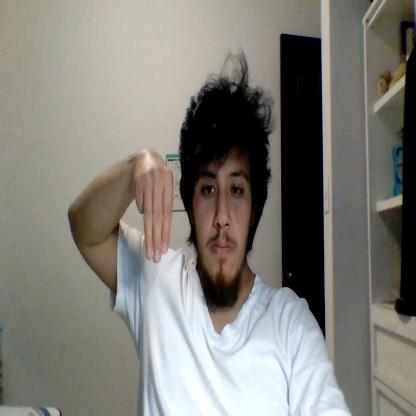M: (134, 150, 175, 262)
